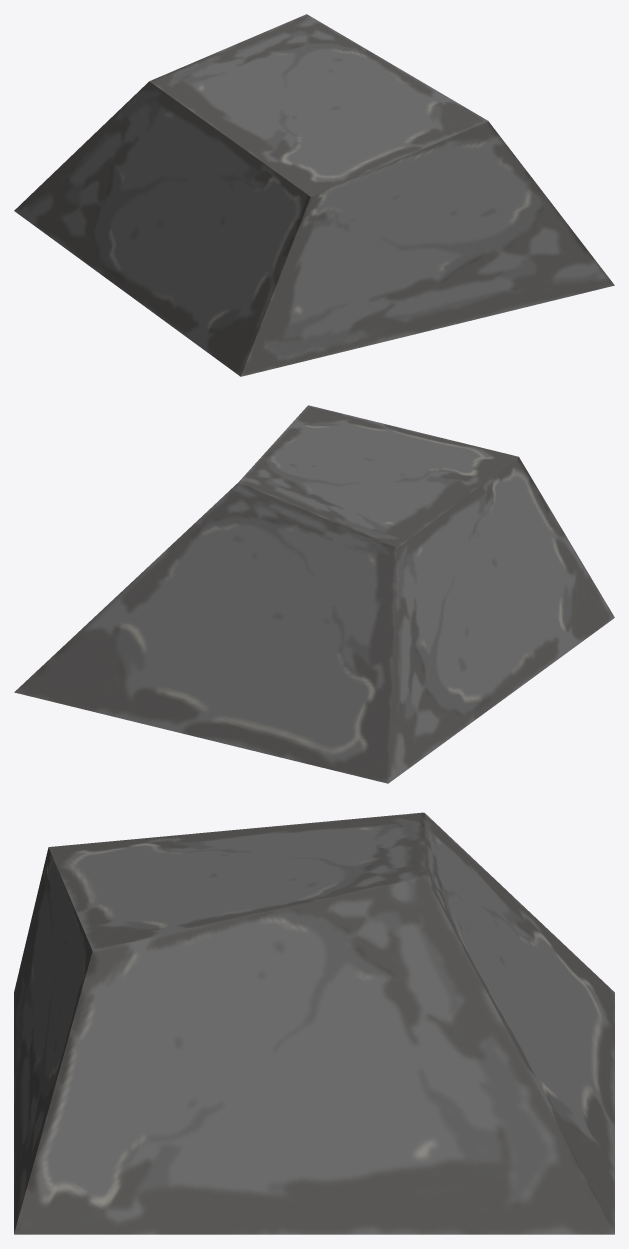
The model's file is Rock_square.FBX.
The picture shows the model from 3 angles, top to bottom: view 1: azimuth 30°, elevation 25°; view 2: azimuth 150°, elevation 25°; view 3: azimuth 270°, elevation 25°; orthographic projection. The views are drawn at different scales.
Parts seen in each view (by area): view 1: rock1_square; view 2: rock1_square; view 3: rock1_square.
Boxes of the visible parts, left/top/right/bottom form: rock1_square: left=14, top=14, right=614, bottom=376; rock1_square: left=14, top=405, right=614, bottom=783; rock1_square: left=14, top=812, right=614, bottom=1234.
Bounding box in the file's own units: 14.12 × 14.82 × 7.04.
Materials: 1 (1 with a texture image).
